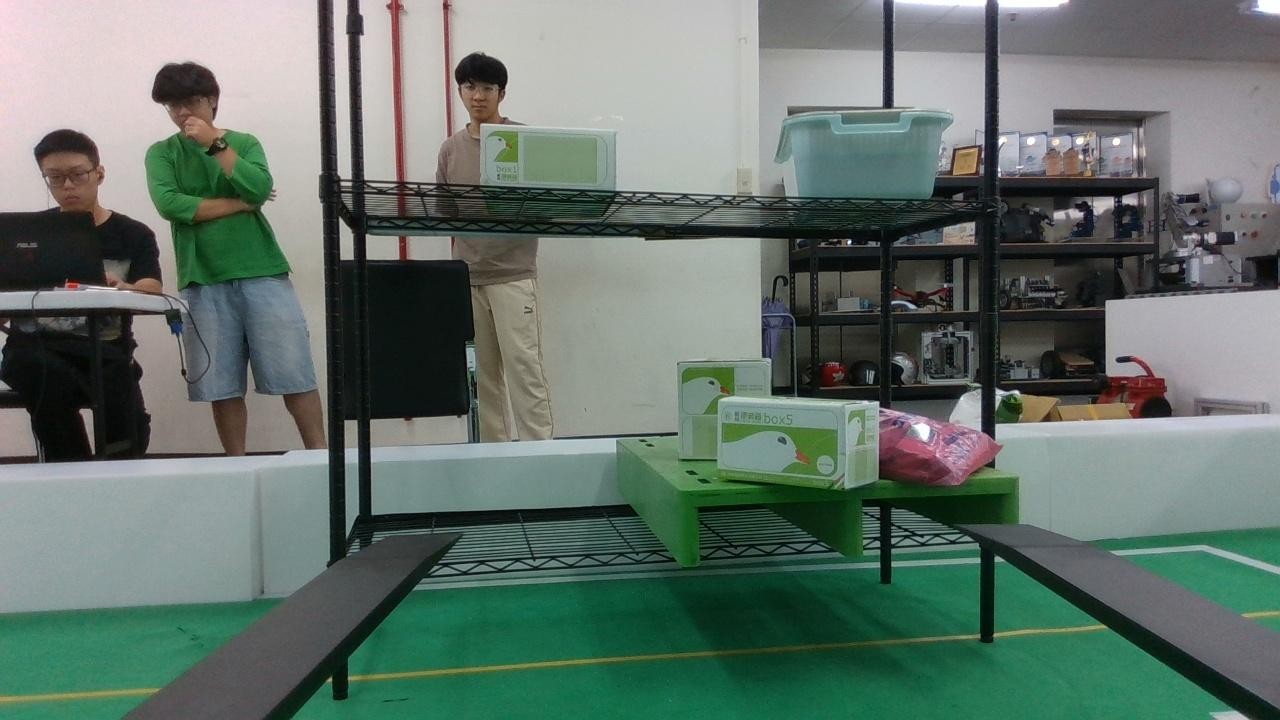Pallet: (681, 478, 1017, 562)
